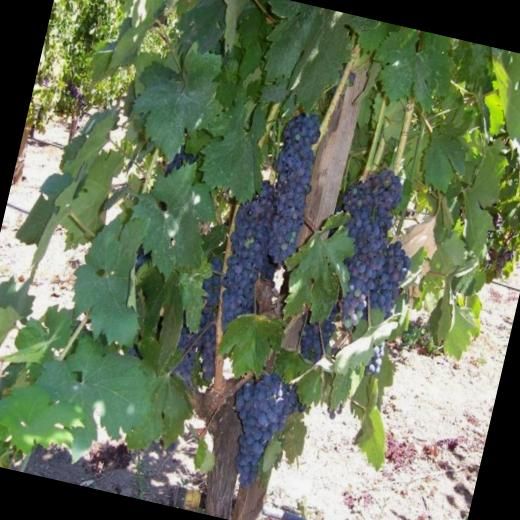Orange: (168, 96, 326, 402), (292, 157, 427, 375), (215, 364, 310, 496), (164, 141, 199, 182), (364, 339, 386, 374), (132, 243, 153, 275), (335, 407, 343, 415), (327, 412, 335, 419), (127, 348, 136, 354), (338, 401, 344, 408), (326, 406, 332, 412)
